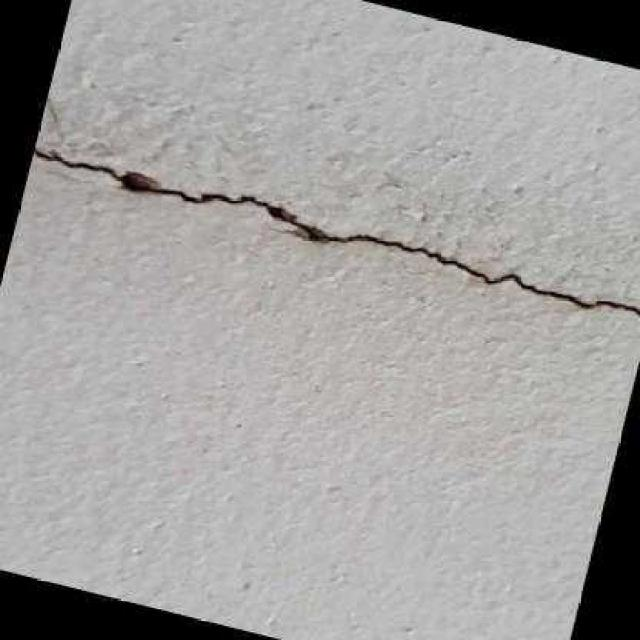D00: (31, 143, 640, 322)
